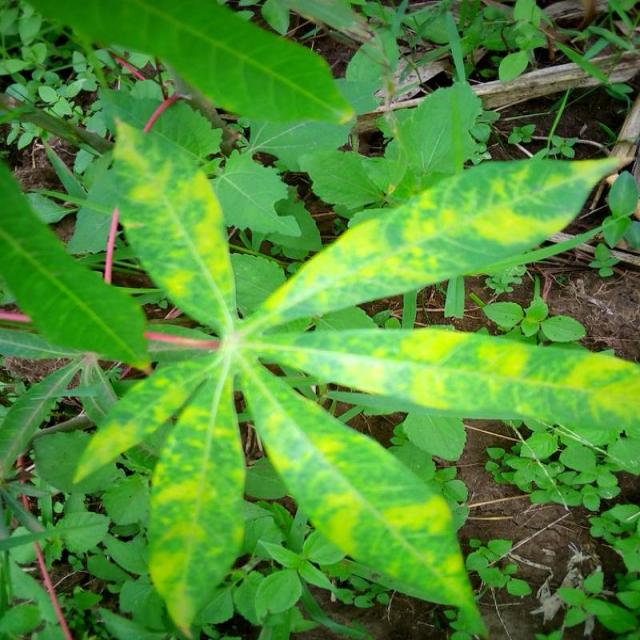cassava leaf: (66, 116, 640, 637), (27, 0, 358, 130)
